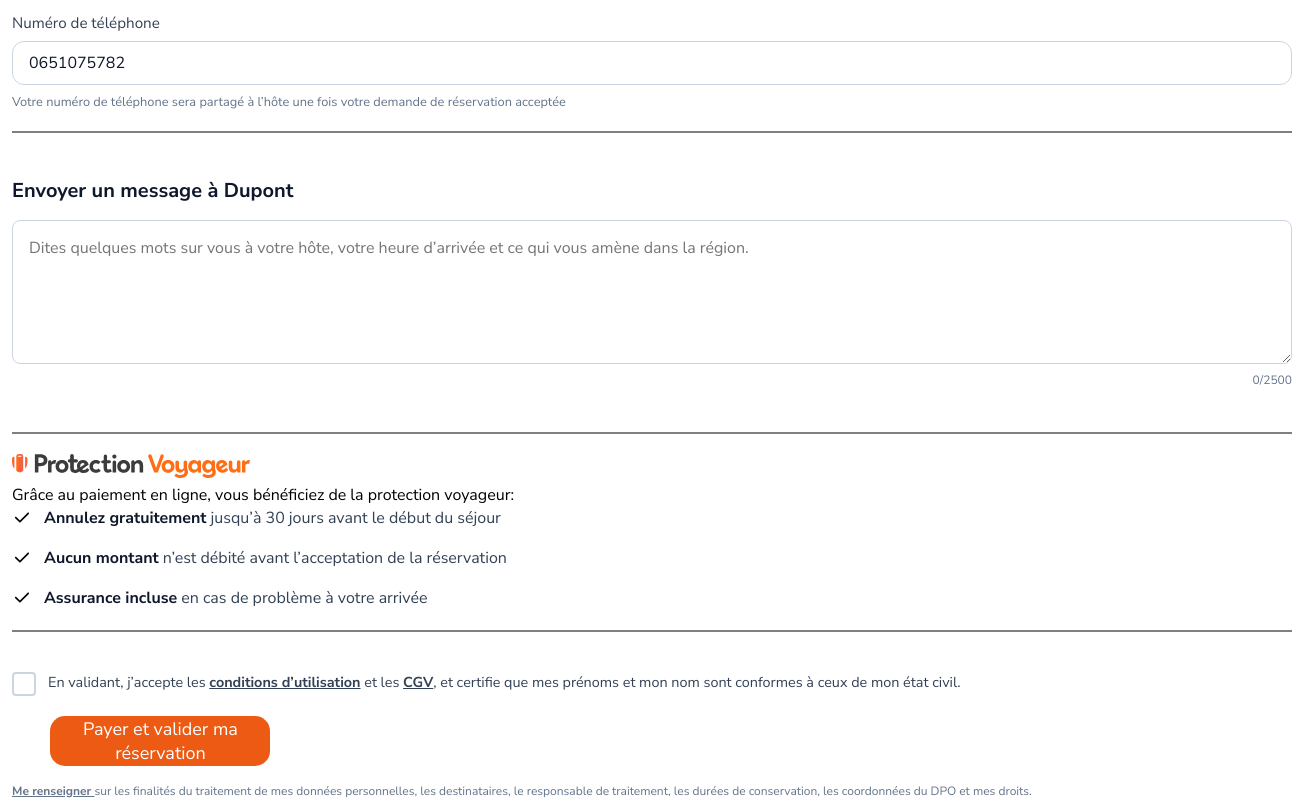
Test: PanneauReservationAnnonce.vue › gère l'état de la checkbox des conditions
(page scrolled)
What coordinates should you click on to do the following:
click the checkbox with id "cgu-checkbox"
I would click on:
 (486, 684)
Its box is 12,672 -> 961,696.
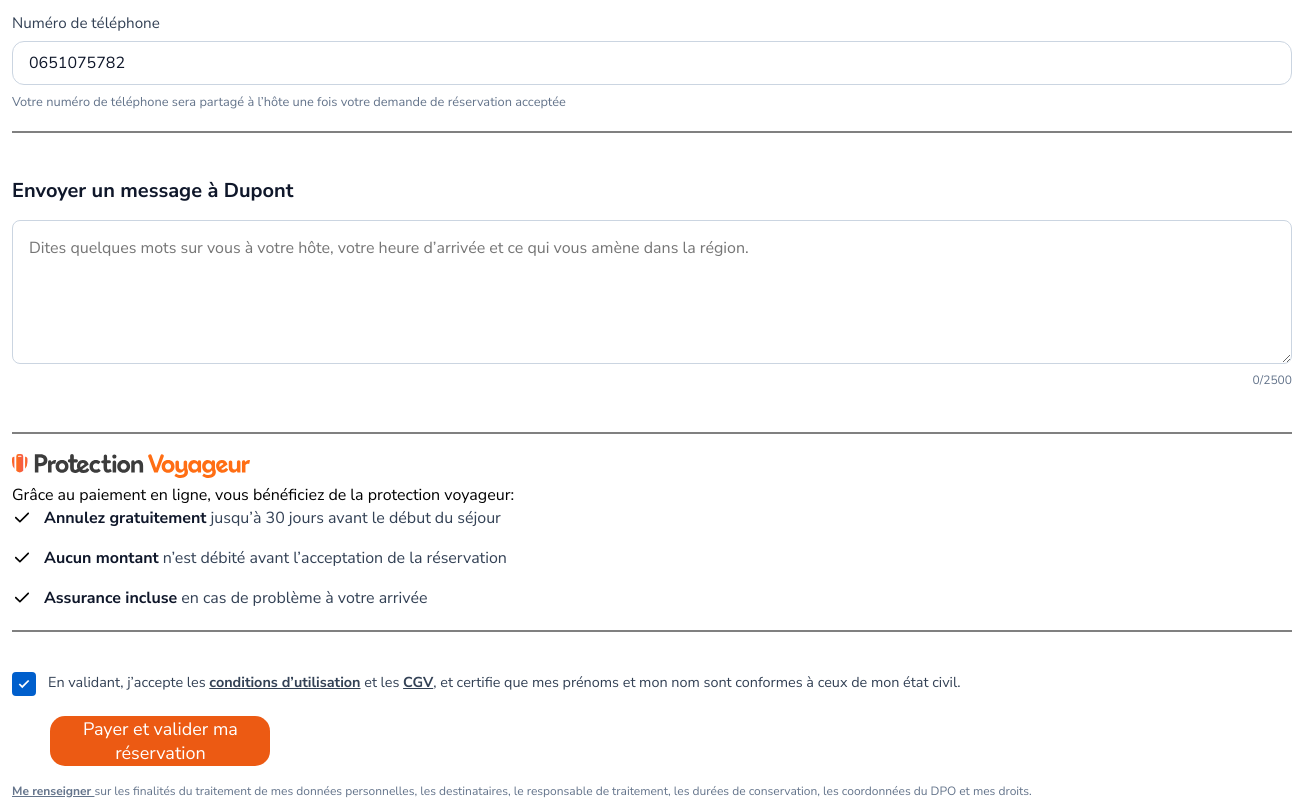
Now the icon next to "En validant, j’accepte les" is shown, box 17,677 -> 31,691
